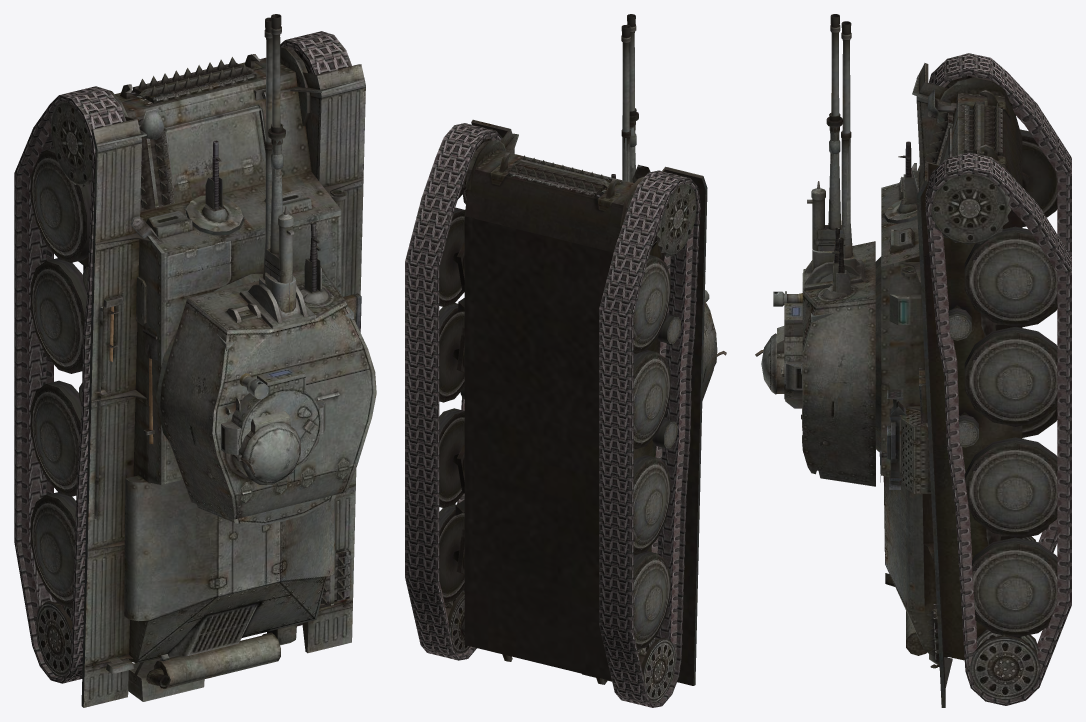
3 views of the same model, side by side, from view 1: azimuth 30°, elevation 25°; view 2: azimuth 150°, elevation 25°; view 3: azimuth 270°, elevation 25° (orthographic). The views are drawn at different scales.
Parts seen in each view (by area): view 1: hull, turret_02, chassis_track_L, turret_01, chassis_wheel_L_03, chassis_wheel_L_02, chassis_wheel_L_04, chassis_wheel_L_05, gun_05, chassis_wheel_L_01, chassis_wheel_L_06, chassis_track_R (+3 smaller); view 2: hull, chassis_track_L, chassis_track_R, chassis_wheel_L_04, chassis_wheel_L_03, chassis_wheel_L_05, chassis_wheel_L_02, chassis_wheel_R_04, chassis_wheel_R_03, chassis_wheel_L_01, chassis_wheel_R_05, chassis_wheel_L_06 (+7 smaller); view 3: hull, chassis_track_R, turret_02, chassis_wheel_R_03, chassis_wheel_R_04, chassis_wheel_R_05, chassis_wheel_R_02, chassis_track_L, turret_01, chassis_wheel_R_01, chassis_wheel_R_06, gun_05 (+6 smaller).
Part boxes in pixels (<box>): hull: <box>78,47,365,707</box>; turret_02: <box>160,221,376,519</box>; chassis_track_L: <box>14,86,126,683</box>; turret_01: <box>156,229,354,525</box>; chassis_wheel_L_03: <box>30,258,86,373</box>; chassis_wheel_L_02: <box>30,148,91,262</box>; chassis_wheel_L_04: <box>30,380,81,496</box>; chassis_wheel_L_05: <box>30,492,75,607</box>; gun_05: <box>265,123,294,312</box>; chassis_wheel_L_01: <box>51,101,92,187</box>; chassis_wheel_L_06: <box>35,601,72,677</box>; chassis_track_R: <box>280,31,351,626</box>; hull: <box>452,119,707,685</box>; chassis_track_L: <box>599,170,700,707</box>; chassis_track_R: <box>405,123,502,660</box>; chassis_wheel_L_04: <box>633,455,670,554</box>; chassis_wheel_L_03: <box>633,350,670,449</box>; chassis_wheel_L_05: <box>633,551,670,649</box>; chassis_wheel_L_02: <box>633,255,670,353</box>; chassis_wheel_R_04: <box>439,408,464,507</box>; chassis_wheel_R_03: <box>439,303,464,402</box>; chassis_wheel_L_01: <box>651,183,696,256</box>; chassis_wheel_R_05: <box>439,504,464,603</box>; chassis_wheel_L_06: <box>637,637,676,702</box>; hull: <box>879,63,1029,707</box>; chassis_track_R: <box>925,152,1071,705</box>; turret_02: <box>755,227,875,482</box>; chassis_wheel_R_03: <box>964,327,1057,426</box>; chassis_wheel_R_04: <box>964,437,1057,537</box>; chassis_wheel_R_05: <box>972,537,1057,637</box>; chassis_wheel_R_02: <box>964,226,1057,326</box>; chassis_track_L: <box>929,53,1071,552</box>; turret_01: <box>773,237,881,486</box>; chassis_wheel_R_01: <box>931,173,1011,244</box>; chassis_wheel_R_06: <box>969,628,1040,700</box>; gun_05: <box>807,113,845,258</box>.
Size of the model in its own units: 2.13 by 5.38 by 2.42.
Materials: 2 (2 with a texture image).
